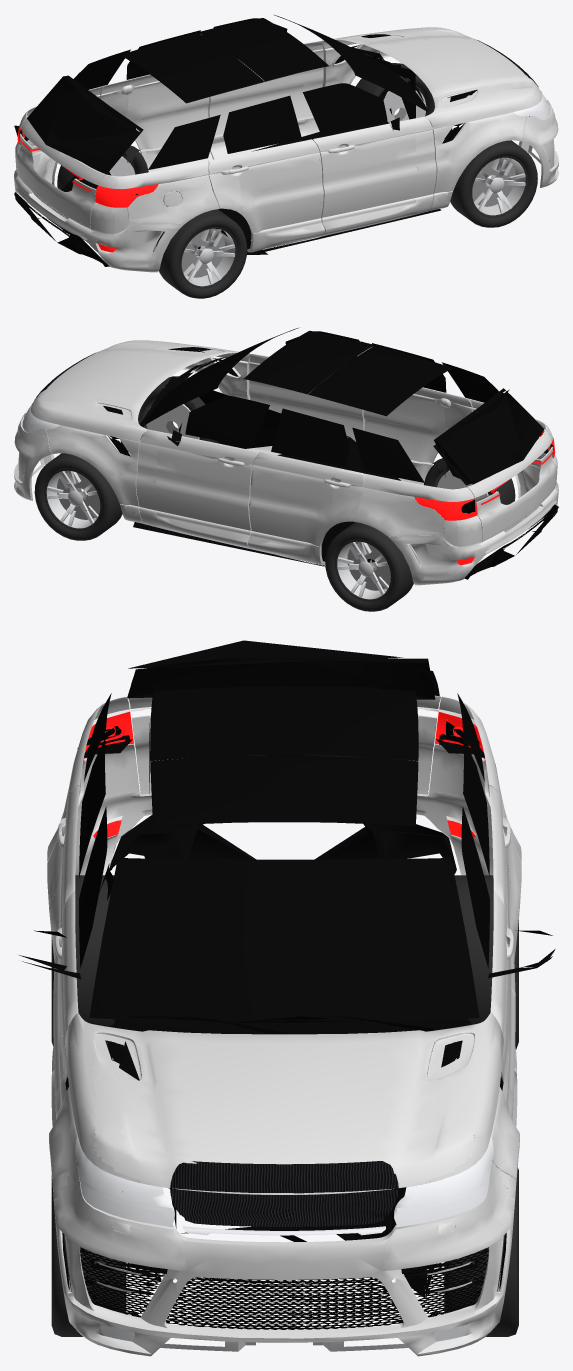
Rendered from rang_rovah.glb.
3 renders of one model, top to bottom at view 1: azimuth 30°, elevation 25°; view 2: azimuth 150°, elevation 25°; view 3: azimuth 270°, elevation 25°, orthographic. The views are drawn at different scales.
Visible parts, largest first — view 1: part_glass, part_door_fr, part_hood, liner_trim, part_fender_fr, part_door_rr, part_quarter_rr, wheel_rr, wheel_fr, part_rear_bumper, part_trunk, part_door_rl (+8 smaller); view 2: part_glass, part_door_fl, liner_trim, part_hood, part_fender_fl, part_door_rl, part_quarter_rl, wheel_rl, wheel_fl, part_rear_bumper, part_trunk, part_door_rr (+8 smaller); view 3: part_glass, part_hood, liner_trim, part_front_bumper, core, part_fender_fr, part_fender_fl, part_trunk, headlight_r, headlight_l, part_rear_bumper, wheel_rl (+11 smaller).
Boxes of the visible parts, x1,y1,x2,y2 form: part_glass: (50, 14, 427, 172); part_door_fr: (316, 119, 417, 237); part_hood: (340, 27, 541, 109); liner_trim: (14, 34, 549, 266); part_fender_fr: (411, 70, 541, 215); part_door_rr: (236, 138, 321, 252); part_quarter_rr: (73, 155, 242, 233); wheel_rr: (152, 209, 247, 298); wheel_fr: (450, 140, 537, 227); part_rear_bumper: (14, 152, 179, 272); part_trunk: (15, 113, 166, 233); part_door_rl: (126, 75, 209, 172); part_glass: (145, 328, 543, 485); part_door_fl: (155, 432, 256, 550); liner_trim: (23, 341, 558, 579); part_hood: (31, 340, 232, 422); part_fender_fl: (31, 381, 163, 527); part_door_rl: (251, 451, 336, 565); part_quarter_rl: (330, 468, 492, 546); wheel_rl: (325, 522, 413, 611); wheel_fl: (34, 453, 122, 540); part_rear_bumper: (393, 465, 558, 585); part_trunk: (440, 426, 557, 546); part_door_rr: (366, 387, 446, 484); part_glass: (79, 659, 489, 1022); part_hood: (92, 1024, 476, 1194); liner_trim: (19, 640, 555, 1329); part_front_bumper: (54, 1175, 514, 1356); core: (170, 1161, 398, 1226); part_fender_fr: (49, 998, 251, 1205); part_fender_fl: (317, 998, 519, 1208); part_trunk: (80, 696, 488, 797); headlight_r: (75, 1137, 284, 1341); headlight_l: (284, 1137, 493, 1341); part_rear_bumper: (60, 790, 508, 875); wheel_rl: (454, 875, 518, 1049).
Bounding box in the file's own units: 4.87 × 1.79 × 2.34.
15 materials, 1 textured.
